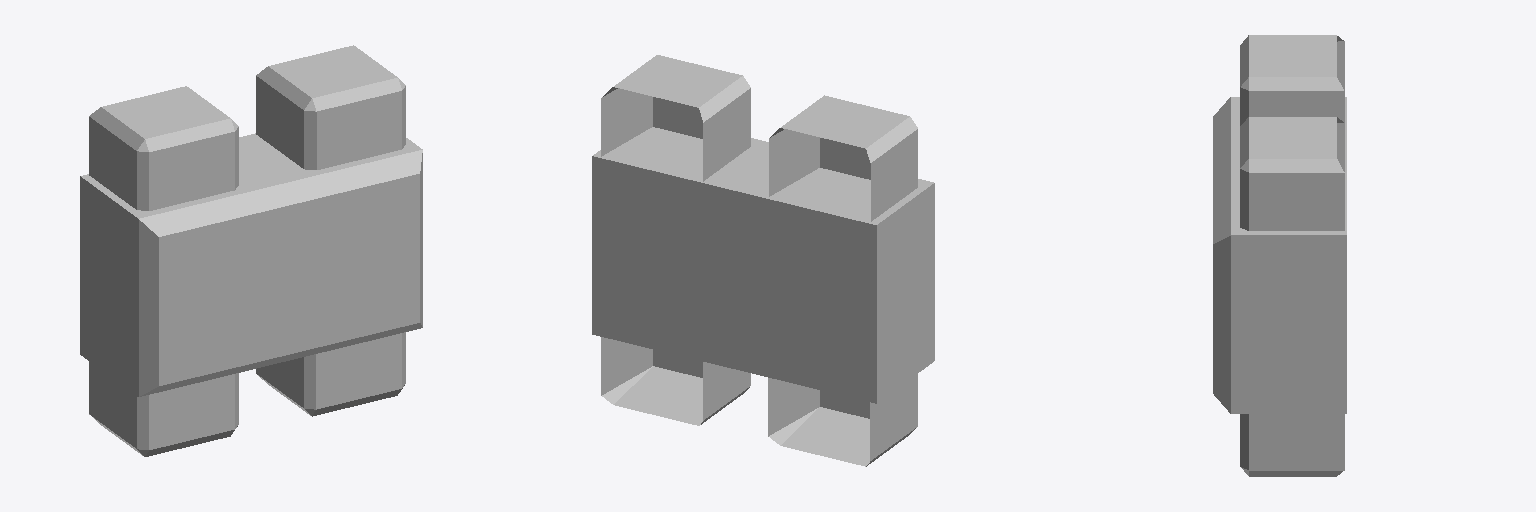
The model's file is drone1base.obj.
3 views of the same model, side by side, from view 1: azimuth 30°, elevation 25°; view 2: azimuth 150°, elevation 25°; view 3: azimuth 270°, elevation 25° (orthographic).
Parts seen in each view (by area): view 1: Object.5, Object.2, Object.1, Object.3, Object.4; view 2: Object.5, Object.2, Object.1, Object.3, Object.4; view 3: Object.5, Object.2, Object.1, Object.4.
Boxes of the visible parts, x1=… form: Object.5: x1=80, y1=133, x2=422, y2=396; Object.2: x1=256, y1=45, x2=405, y2=169; Object.1: x1=89, y1=86, x2=238, y2=210; Object.3: x1=89, y1=361, x2=238, y2=456; Object.4: x1=256, y1=332, x2=405, y2=416; Object.5: x1=592, y1=127, x2=934, y2=403; Object.2: x1=601, y1=55, x2=750, y2=181; Object.1: x1=769, y1=95, x2=917, y2=221; Object.3: x1=768, y1=374, x2=917, y2=466; Object.4: x1=601, y1=337, x2=750, y2=425; Object.5: x1=1213, y1=97, x2=1346, y2=413; Object.2: x1=1240, y1=117, x2=1344, y2=230; Object.1: x1=1240, y1=35, x2=1344, y2=125; Object.4: x1=1240, y1=414, x2=1344, y2=476.
Size of the model in its own units: 62.69 by 67.05 by 25.67.